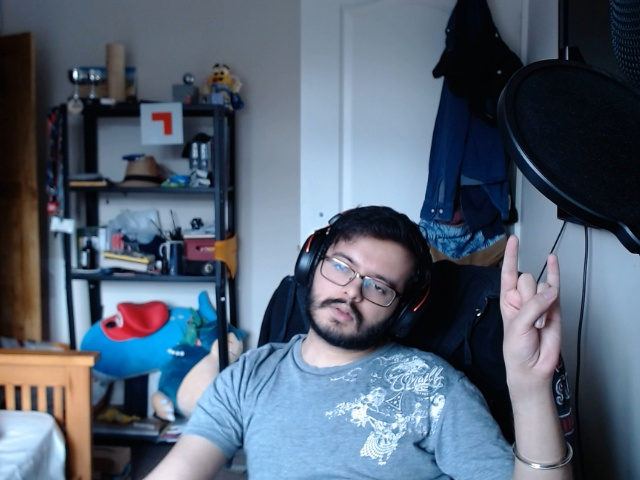Rock on: (489, 227, 573, 401)
